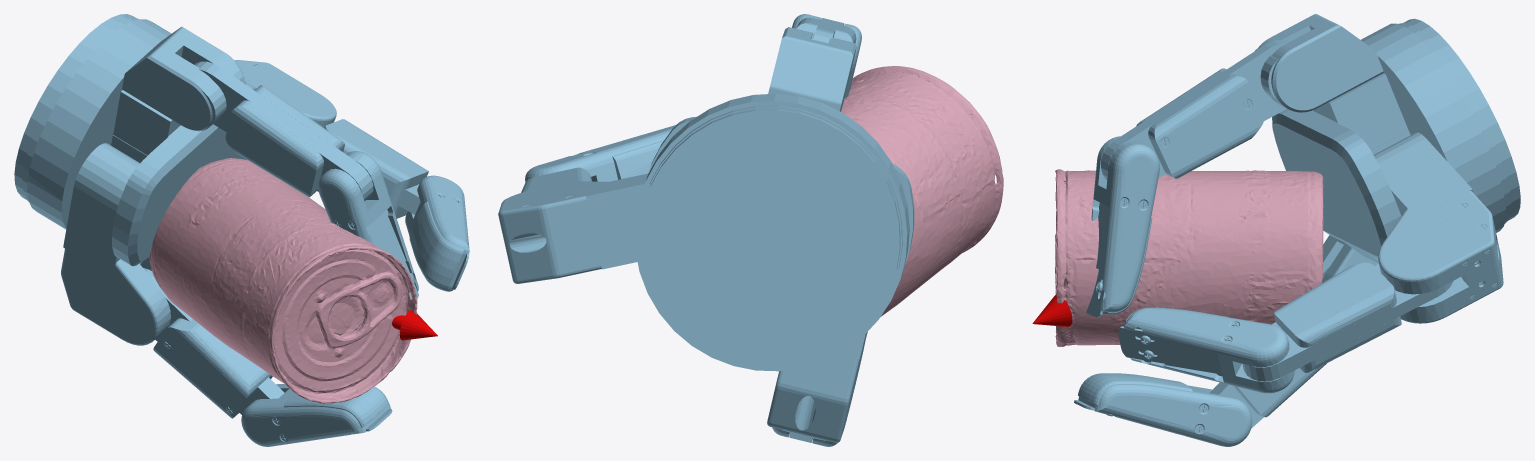
3 renders of one model, left to right at view 1: azimuth 30°, elevation 25°; view 2: azimuth 150°, elevation 25°; view 3: azimuth 270°, elevation 25°, orthographic. The views are drawn at different scales.
Parts seen in each view (by area): view 1: world, tomato_soup_can.stl; view 2: world, tomato_soup_can.stl; view 3: world, tomato_soup_can.stl.
Part boxes in pixels (x1,y1,x2,y2): world: (14, 14, 469, 446); tomato_soup_can.stl: (149, 158, 417, 403); world: (498, 14, 914, 446); tomato_soup_can.stl: (841, 66, 1003, 316); world: (1032, 14, 1520, 446); tomato_soup_can.stl: (1055, 169, 1323, 346).
Size of the model in its own units: 0.172 by 0.168 by 0.1854.
